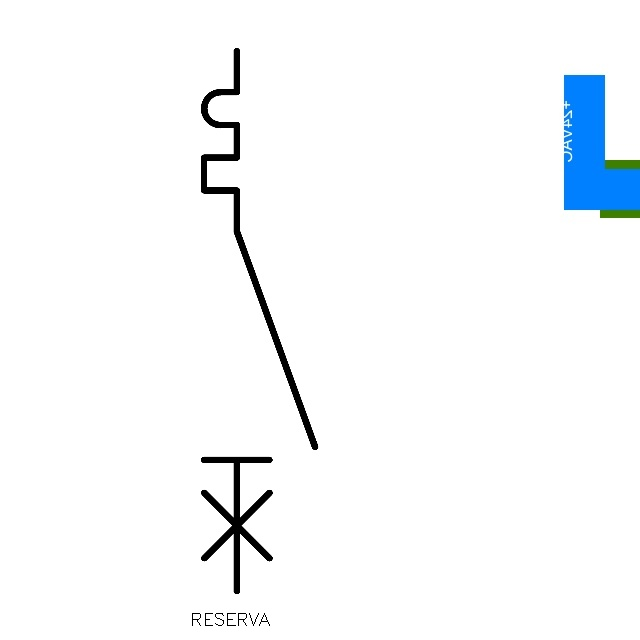interruptor_termomagnetico: (190, 37, 329, 605)
